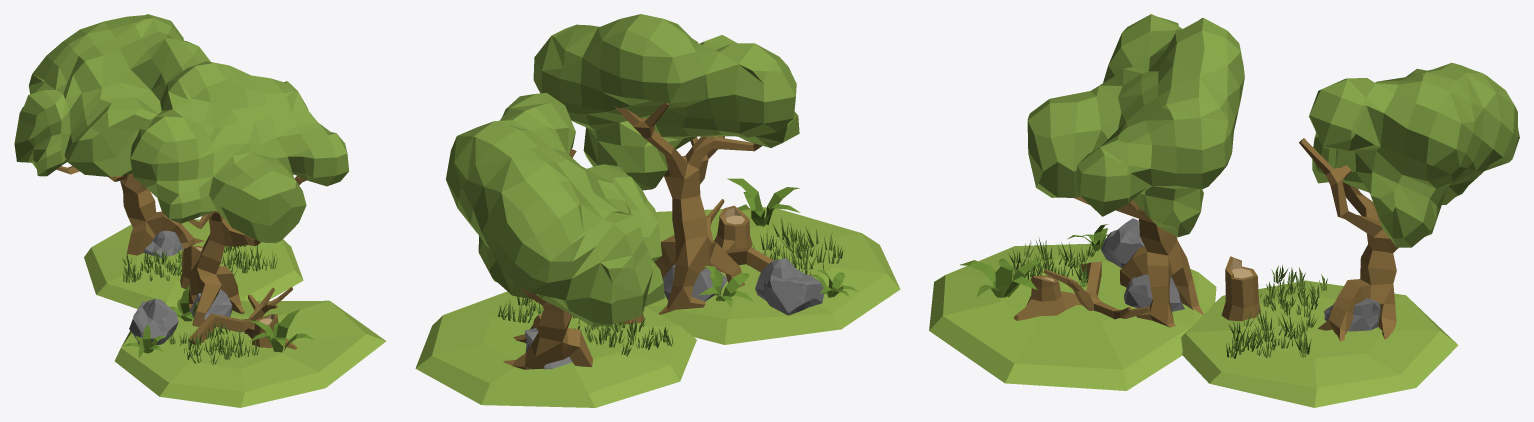
Rendered from nested trees 2.fbx.
3 views of the same model, side by side, from view 1: azimuth 30°, elevation 25°; view 2: azimuth 150°, elevation 25°; view 3: azimuth 270°, elevation 25° (orthographic). The views are drawn at different scales.
Visible parts, largest first — view 1: nested nature_LOD0; view 2: nested nature_LOD0; view 3: nested nature_LOD0.
Boxes of the visible parts, x1=… form: nested nature_LOD0: x1=14, y1=14, x2=386, y2=407; nested nature_LOD0: x1=415, y1=14, x2=900, y2=407; nested nature_LOD0: x1=929, y1=14, x2=1519, y2=407.
Size of what is drawn, in the model's own units: 12.55 by 12.1 by 20.53.
